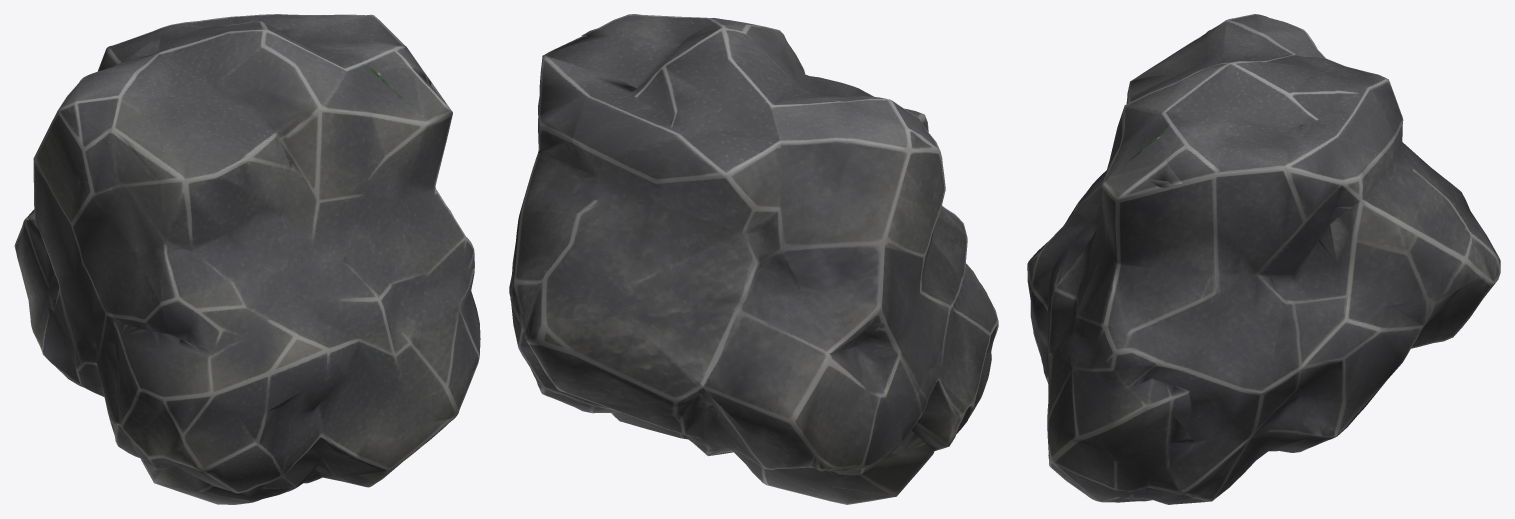
File: 06_split_fragment_right.fbx
3 views of the same model, side by side, from view 1: azimuth 30°, elevation 25°; view 2: azimuth 150°, elevation 25°; view 3: azimuth 270°, elevation 25° (orthographic). The views are drawn at different scales.
Parts seen in each view (by area): view 1: 06_split_fragment_right; view 2: 06_split_fragment_right; view 3: 06_split_fragment_right.
Boxes of the visible parts, x1=… form: 06_split_fragment_right: x1=14, y1=14, x2=480, y2=504; 06_split_fragment_right: x1=509, y1=14, x2=998, y2=504; 06_split_fragment_right: x1=1027, y1=14, x2=1500, y2=504.
Bounding box in the file's own units: 0.5839 × 0.7 × 0.6897.
1 material, 1 textured.
